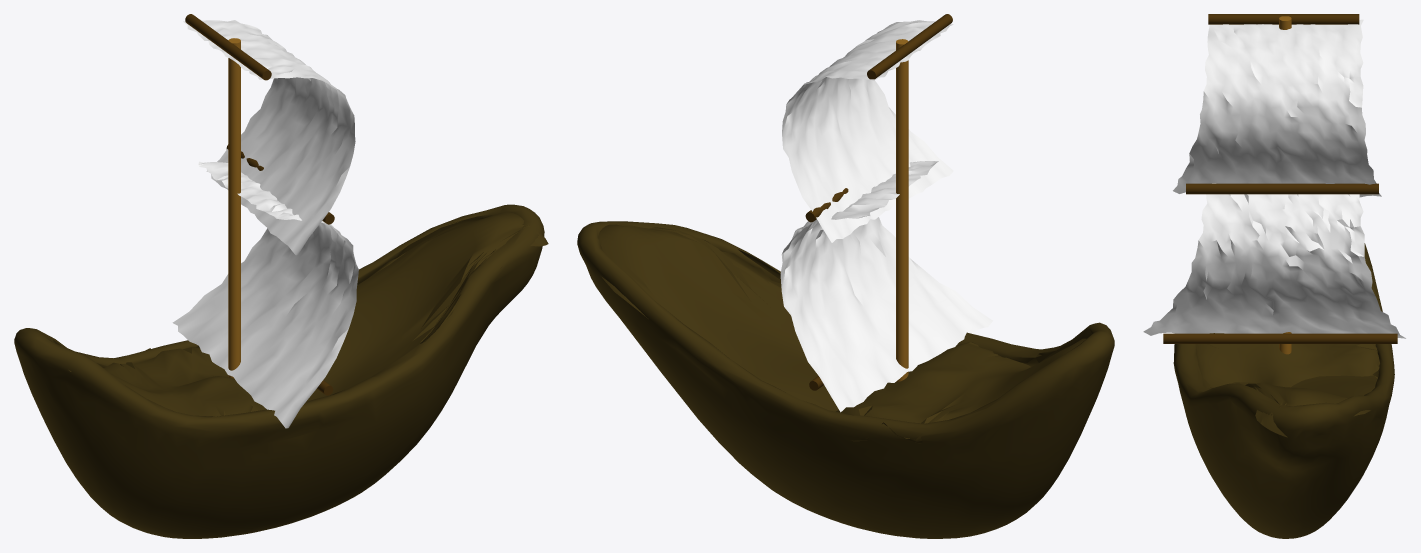
Rendered from ship.fbx.
The picture shows the model from 3 angles, left to right: view 1: azimuth 30°, elevation 25°; view 2: azimuth 150°, elevation 25°; view 3: azimuth 270°, elevation 25°; orthographic projection. The views are drawn at different scales.
Visible parts, largest first — view 1: Thin_Hull, Plane_1, Plane, Plane_3, Plane_2, Cylinder, Cylinder_1; view 2: Thin_Hull, Plane_1, Plane, Plane_3, Plane_2, Cylinder, Cylinder_1; view 3: Plane, Plane_1, Thin_Hull, Plane_2, Plane_3, Cylinder_3, Cylinder_2, Cylinder_1.
Boxes of the visible parts, x1=… form: Thin_Hull: x1=14, y1=204, x2=544, y2=538; Plane_1: x1=172, y1=161, x2=358, y2=428; Plane: x1=183, y1=20, x2=355, y2=255; Plane_3: x1=306, y1=212, x2=548, y2=401; Plane_2: x1=54, y1=343, x2=266, y2=416; Cylinder: x1=228, y1=38, x2=240, y2=378; Cylinder_1: x1=185, y1=14, x2=271, y2=80; Thin_Hull: x1=577, y1=221, x2=1114, y2=538; Plane_1: x1=780, y1=161, x2=992, y2=412; Plane: x1=782, y1=20, x2=953, y2=242; Plane_3: x1=598, y1=222, x2=838, y2=411; Plane_2: x1=836, y1=338, x2=1086, y2=443; Cylinder: x1=896, y1=39, x2=908, y2=381; Cylinder_1: x1=867, y1=14, x2=952, y2=79; Plane: x1=1173, y1=19, x2=1381, y2=197; Plane_1: x1=1143, y1=183, x2=1405, y2=338; Thin_Hull: x1=1173, y1=243, x2=1394, y2=538; Plane_2: x1=1196, y1=333, x2=1379, y2=387; Plane_3: x1=1207, y1=375, x2=1377, y2=437; Cylinder_3: x1=1163, y1=333, x2=1397, y2=343; Cylinder_2: x1=1186, y1=183, x2=1378, y2=194; Cylinder_1: x1=1208, y1=14, x2=1359, y2=24.
Bounding box in the file's own units: 840 × 751 × 374.
